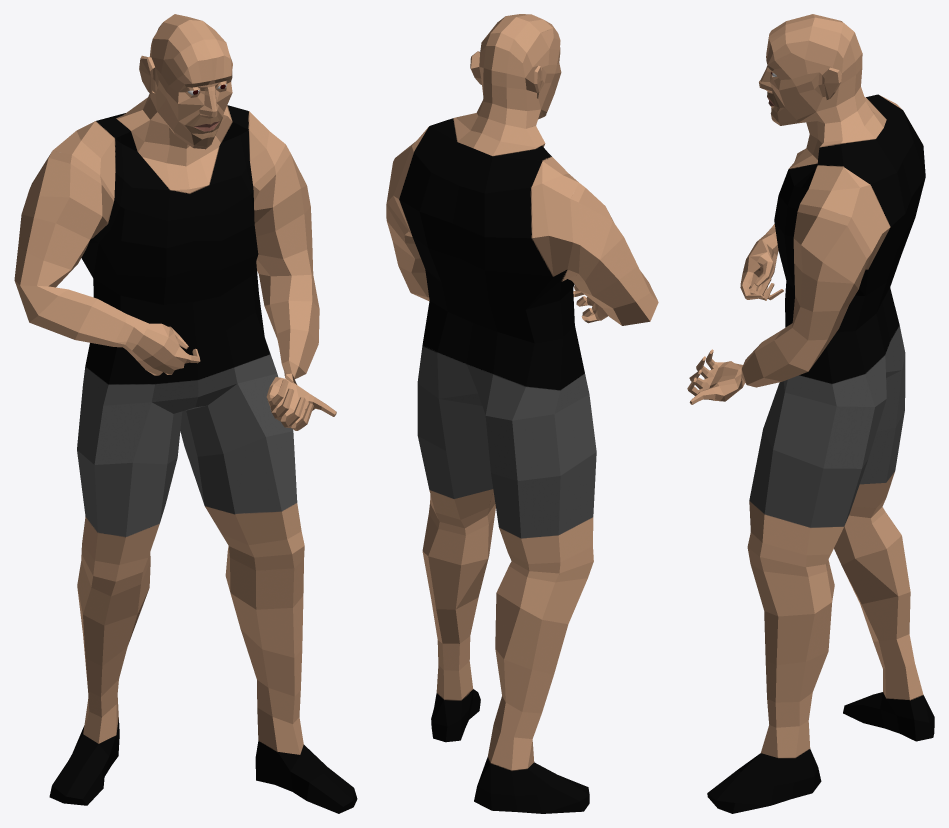
The model's file is PlayerIdle(1).obj.
3 renders of one model, left to right at view 1: azimuth 30°, elevation 25°; view 2: azimuth 150°, elevation 25°; view 3: azimuth 270°, elevation 25°, orthographic. The views are drawn at different scales.
Parts seen in each view (by area): view 1: Plane002; view 2: Plane002; view 3: Plane002.
Boxes of the visible parts, bbox=[...] form: Plane002: bbox=[14, 14, 357, 813]; Plane002: bbox=[386, 14, 658, 813]; Plane002: bbox=[687, 14, 934, 813].
Size of the model in its own units: 679 by 1806 by 548.
